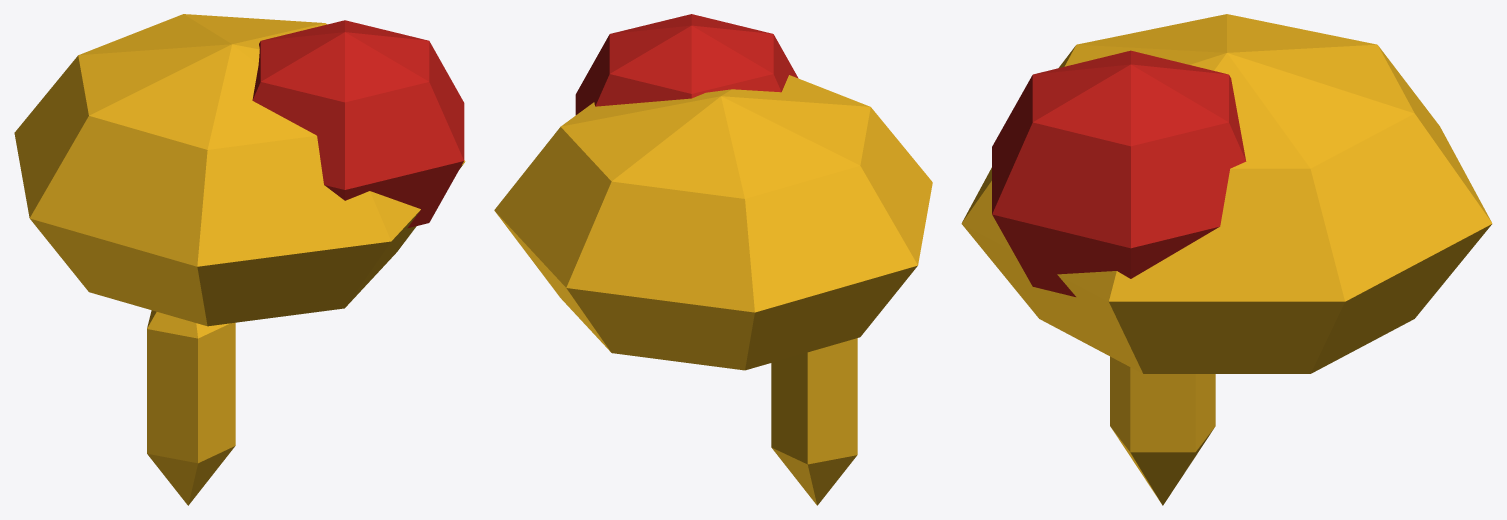
Rendered from rally_dirty_hand.glb.
The picture shows the model from 3 angles, left to right: view 1: azimuth 30°, elevation 25°; view 2: azimuth 150°, elevation 25°; view 3: azimuth 270°, elevation 25°; orthographic projection. The views are drawn at different scales.
Parts seen in each view (by area): view 1: goo_egg_yolk, goo_tomato_goo; view 2: goo_egg_yolk, goo_tomato_goo; view 3: goo_egg_yolk, goo_tomato_goo.
Boxes of the visible parts, x1,y1,x2,y2 form: goo_egg_yolk: [14, 14, 465, 505]; goo_tomato_goo: [252, 20, 464, 228]; goo_egg_yolk: [494, 75, 932, 505]; goo_tomato_goo: [575, 14, 798, 114]; goo_egg_yolk: [961, 14, 1492, 505]; goo_tomato_goo: [992, 50, 1246, 296].
Bounding box in the file's own units: 0.165 × 0.18 × 0.1657.
